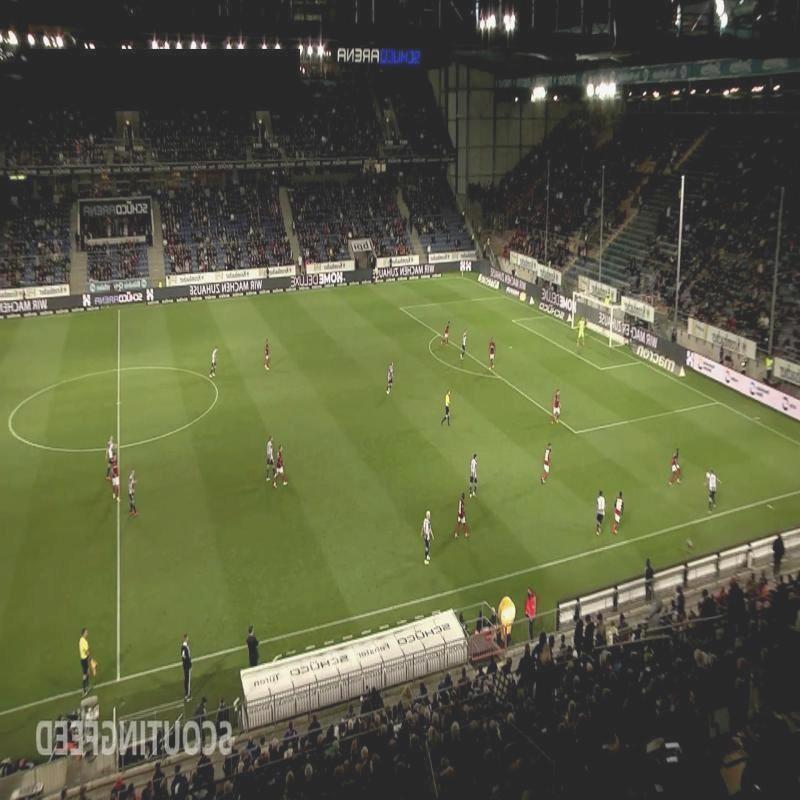1: (456, 270, 470, 284)
10: (432, 326, 446, 340)
11: (492, 368, 506, 382)
12: (569, 426, 584, 440)
13: (111, 302, 125, 316)
14: (111, 360, 125, 374)
15: (111, 439, 125, 454)
16: (109, 670, 126, 690)
2: (497, 288, 511, 302)
3: (540, 309, 554, 323)
4: (633, 355, 647, 368)
5: (710, 394, 724, 408)
7: (506, 312, 520, 326)
8: (594, 360, 608, 374)
9: (394, 300, 408, 314)
c: (4, 414, 16, 435), (210, 384, 224, 398)
